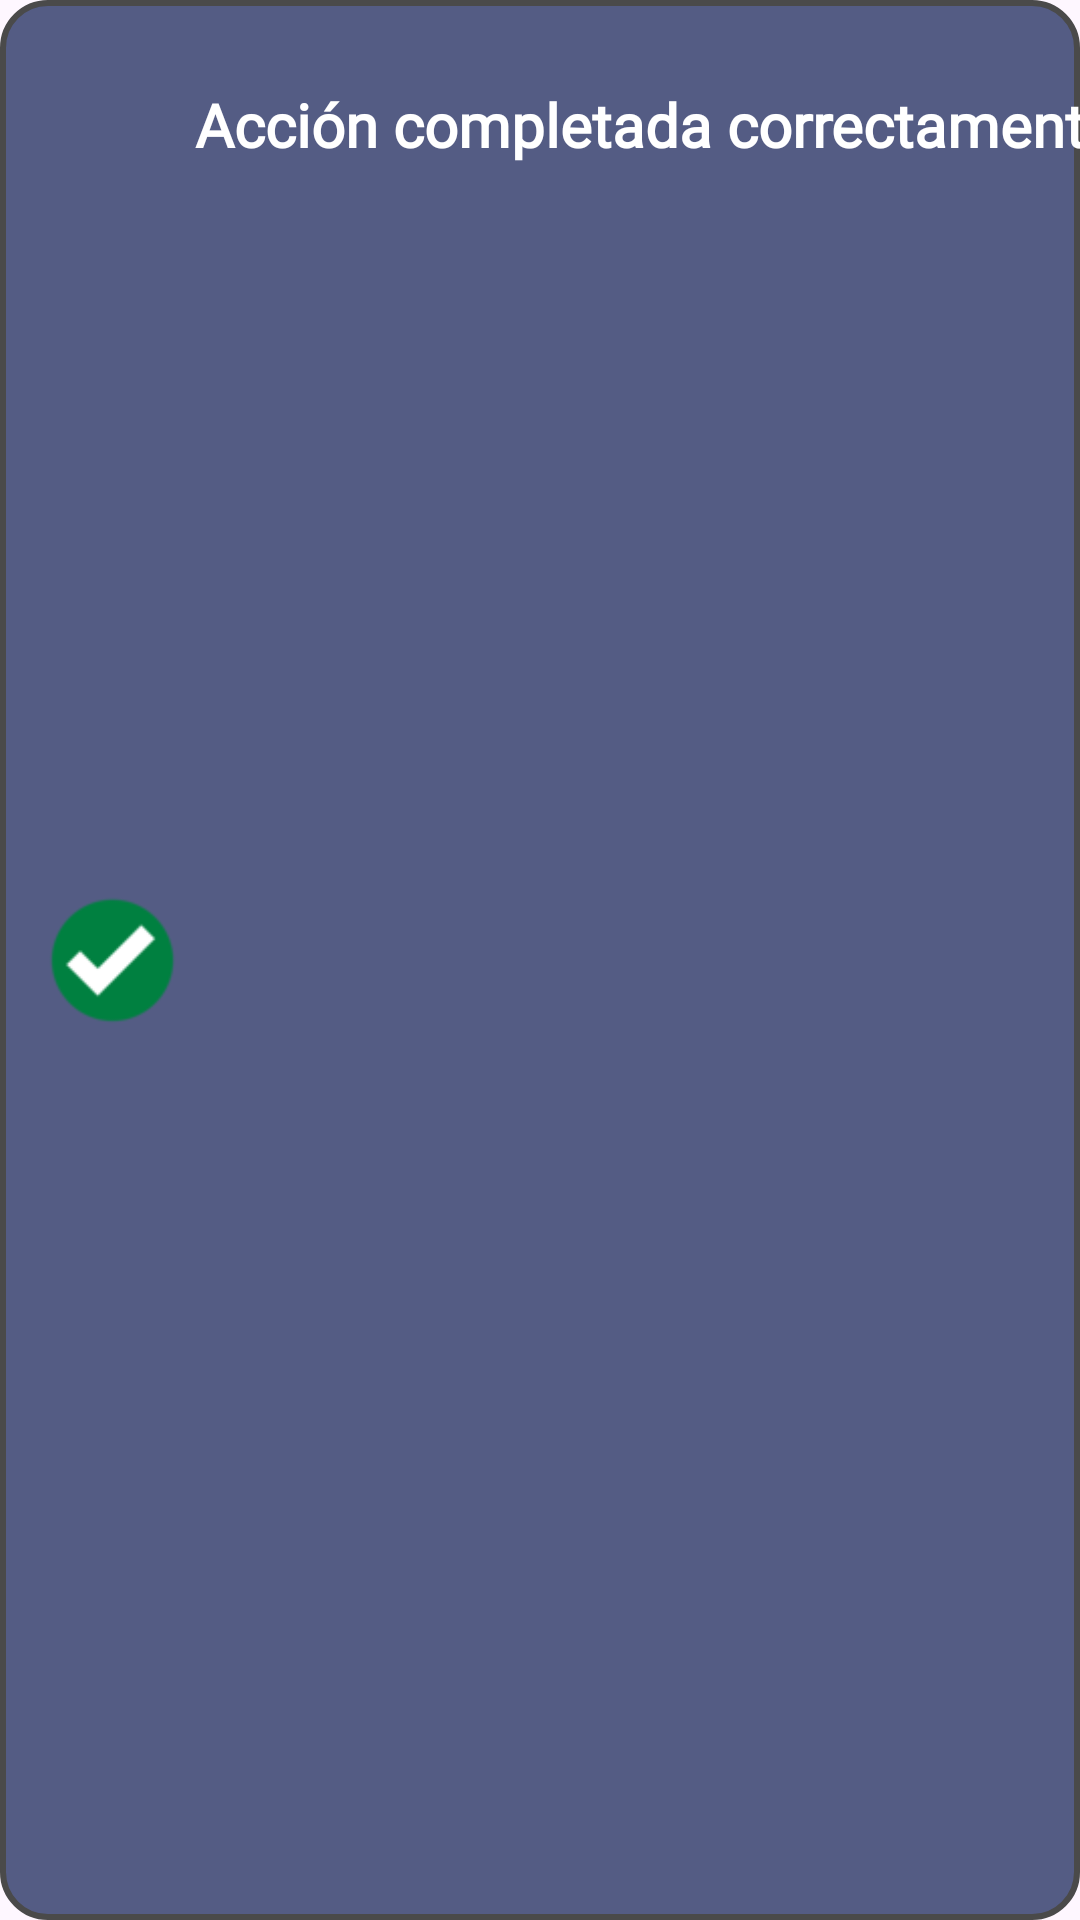

Icons on this 1080 × 1920 Android screen, each with its box as box(x1, y1, x2, y2):
success: box(51, 899, 174, 1022)
